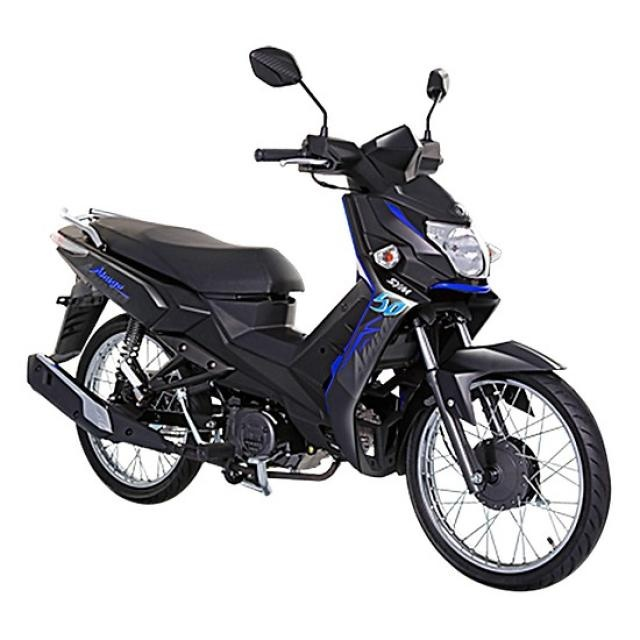Motorcycle: (24, 36, 617, 590)
